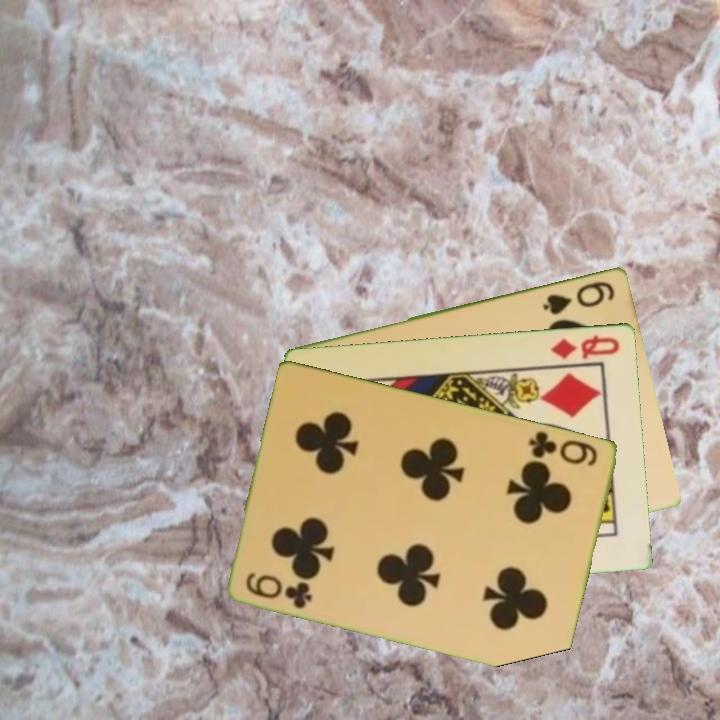6c: (242, 568, 316, 612), (526, 427, 601, 469)
6s: (540, 277, 618, 317)
Qd: (548, 331, 623, 362)
